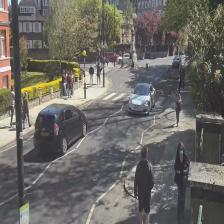person: (134, 145, 153, 224), (174, 140, 189, 222)
